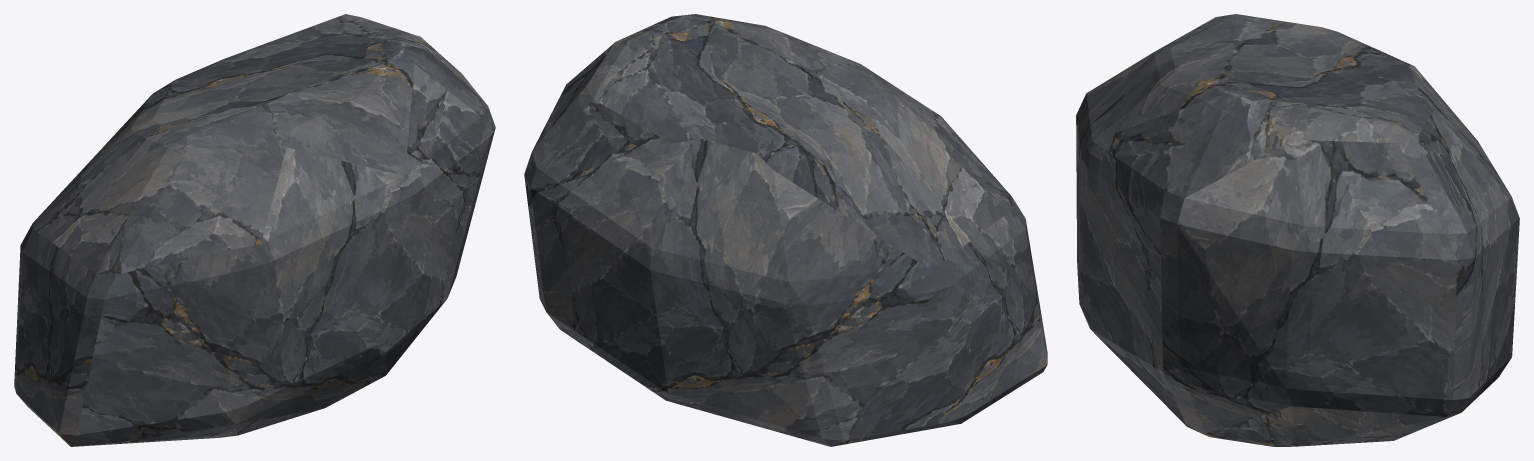
The model's file is Cave_R01_WeatheredBoulder.fbx.
The picture shows the model from 3 angles, left to right: view 1: azimuth 30°, elevation 25°; view 2: azimuth 150°, elevation 25°; view 3: azimuth 270°, elevation 25°; orthographic projection. The views are drawn at different scales.
Visible parts, largest first — view 1: Cave_R01_WeatheredBoulder_LOD0; view 2: Cave_R01_WeatheredBoulder_LOD0; view 3: Cave_R01_WeatheredBoulder_LOD0.
Part boxes in pixels (box(x1,y1,x2,y2)): Cave_R01_WeatheredBoulder_LOD0: box(14, 14, 495, 446); Cave_R01_WeatheredBoulder_LOD0: box(524, 14, 1047, 446); Cave_R01_WeatheredBoulder_LOD0: box(1076, 14, 1519, 446).
Size of what is drawn, in the model's own units: 1.77 by 1.15 by 1.28.
1 material, 1 textured.
